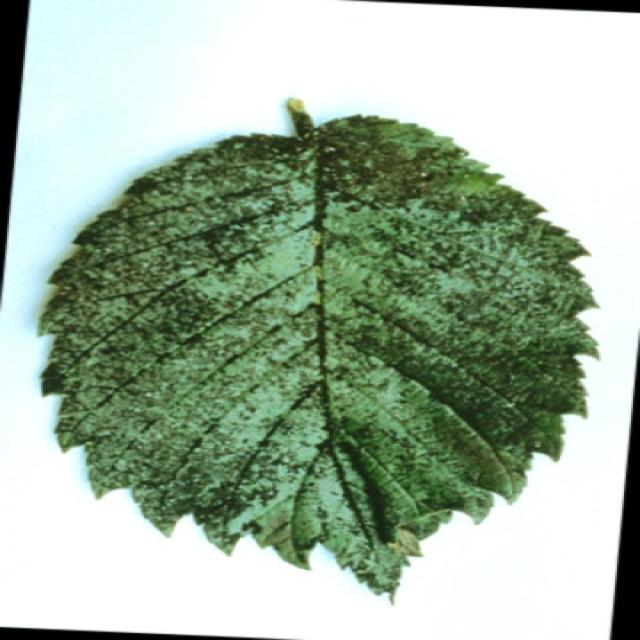Sooty Mold: (34, 96, 601, 603)
